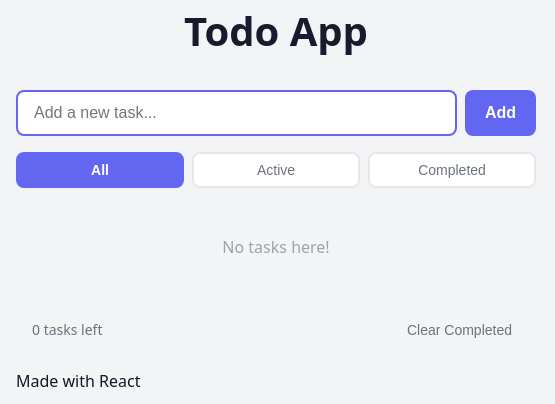
Todo App › deletes a todo
Type "Delete me" into the field with placeholder "Add a new task...".
click(236, 113); type("Delete me")  # box x1=16 y1=90 x2=457 y2=136
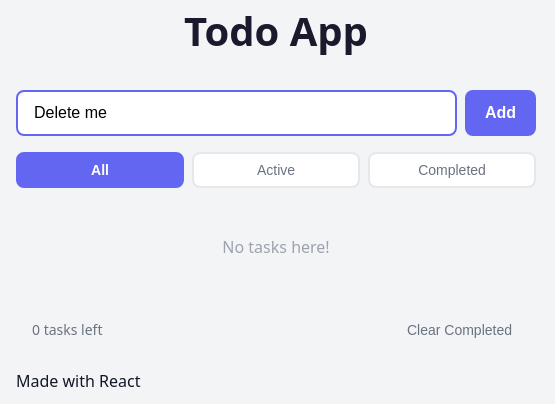
Click the button "Add".
click(500, 113)  # box x1=465 y1=90 x2=536 y2=136
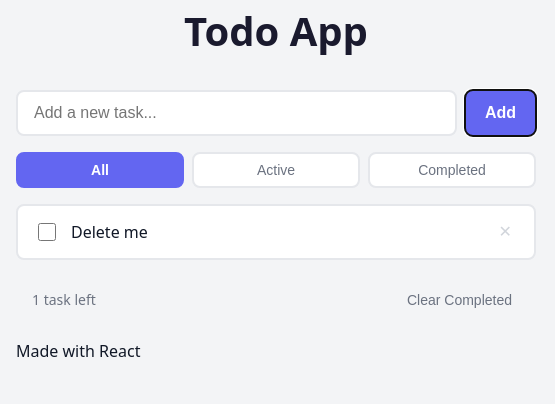
Click the button "✕".
click(505, 232)  # box x1=493 y1=220 x2=518 y2=244
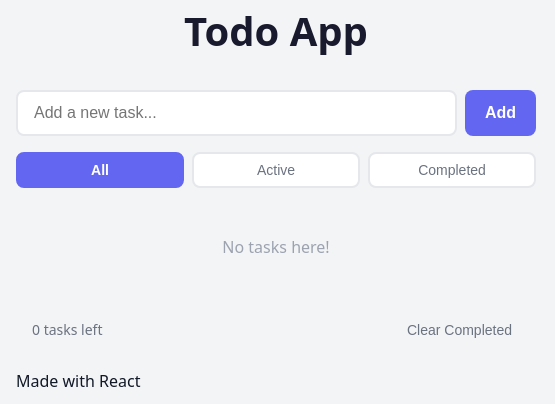
expect the text "Delete me" is gone: met
